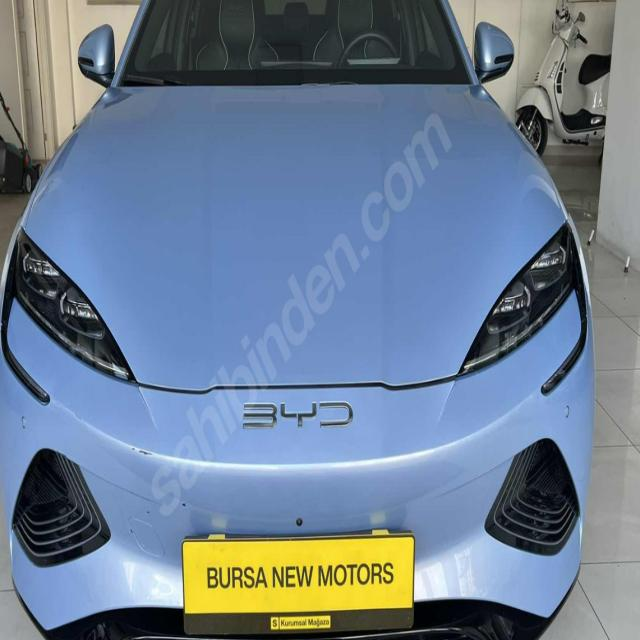byd: (230, 378, 362, 441)
